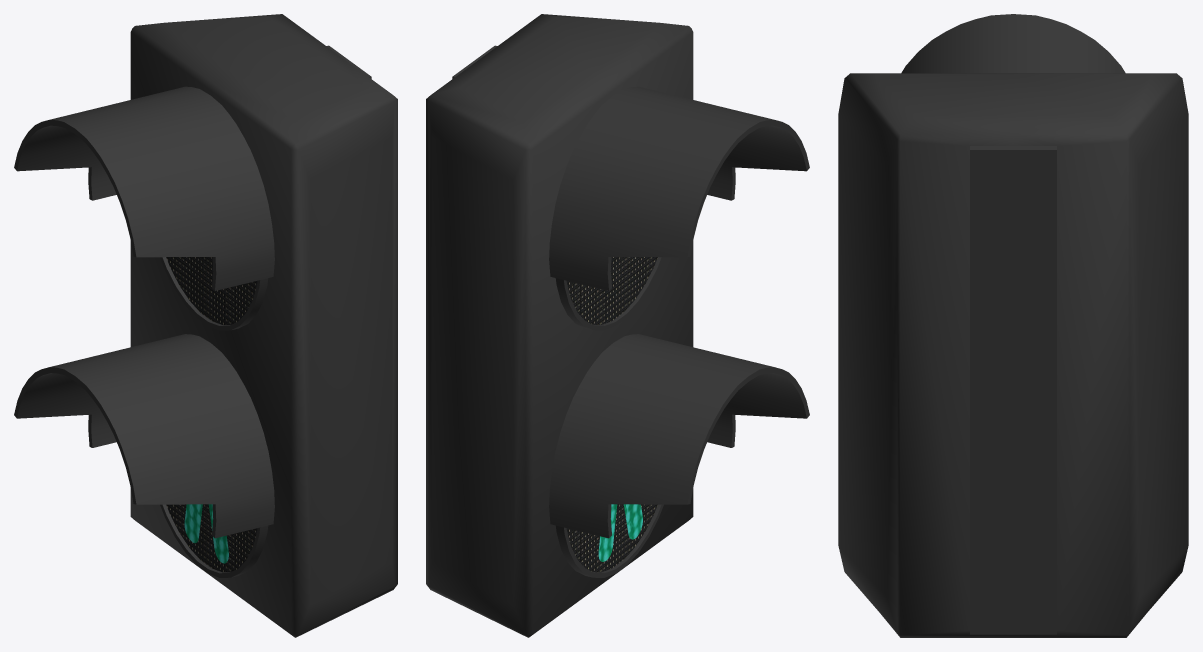
File: 竖排人行灯_GreenLight.fbx
3 views of the same model, side by side, from view 1: azimuth 30°, elevation 25°; view 2: azimuth 150°, elevation 25°; view 3: azimuth 270°, elevation 25° (orthographic).
Parts seen in each view (by area): view 1: 竖排人行灯_GreenLight; view 2: 竖排人行灯_GreenLight; view 3: 竖排人行灯_GreenLight.
Part boxes in pixels (bbox=[...]): 竖排人行灯_GreenLight: bbox=[14, 14, 397, 637]; 竖排人行灯_GreenLight: bbox=[426, 14, 809, 637]; 竖排人行灯_GreenLight: bbox=[838, 14, 1188, 637].
Size of the model in its own units: 0.6 by 1.06 by 0.65.
Materials: 3 (2 with a texture image).
